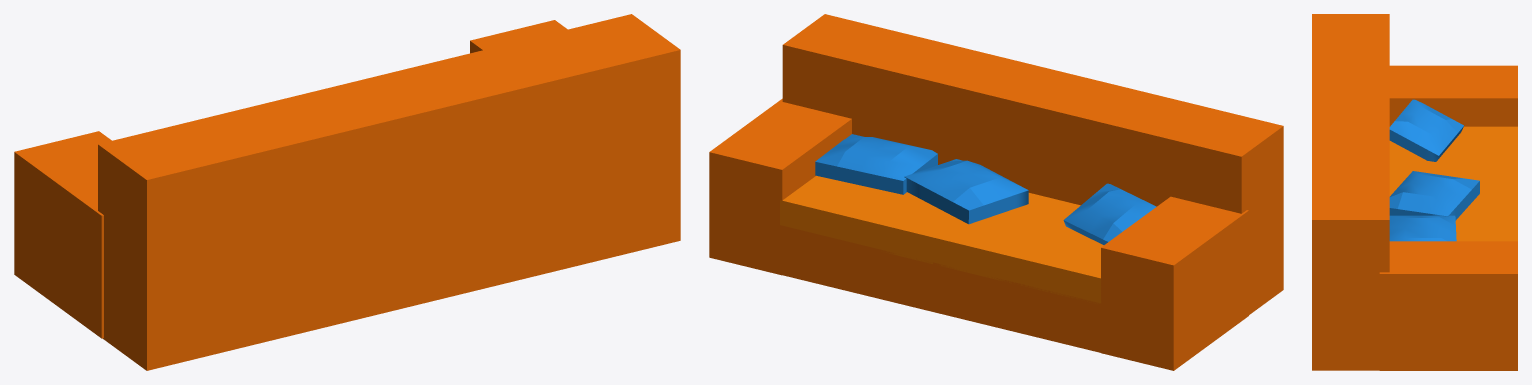
File: 3dmodel6489c24f10e19sofa.glb
The picture shows the model from 3 angles, left to right: view 1: azimuth 30°, elevation 25°; view 2: azimuth 150°, elevation 25°; view 3: azimuth 270°, elevation 25°; orthographic projection. The views are drawn at different scales.
Parts seen in each view (by area): view 1: Cube.004; view 2: Cube.004; view 3: Cube.004.
Part boxes in pixels (x1=…): Cube.004: x1=14, y1=14, x2=680, y2=370; Cube.004: x1=709, y1=14, x2=1283, y2=370; Cube.004: x1=1312, y1=14, x2=1517, y2=370.
Size of the model in its own units: 7.14 by 2.41 by 2.98.
